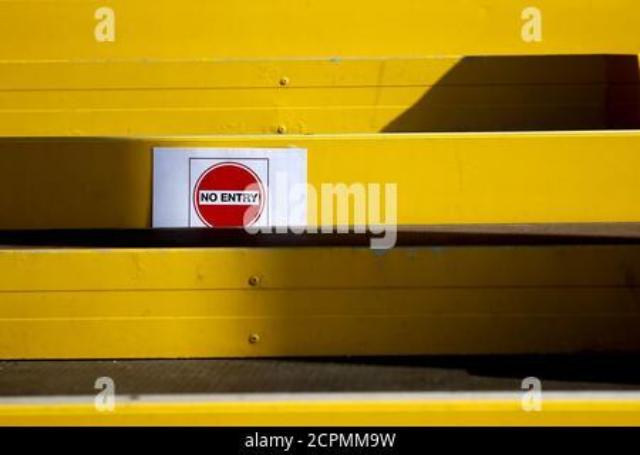B2: (187, 156, 269, 228)
